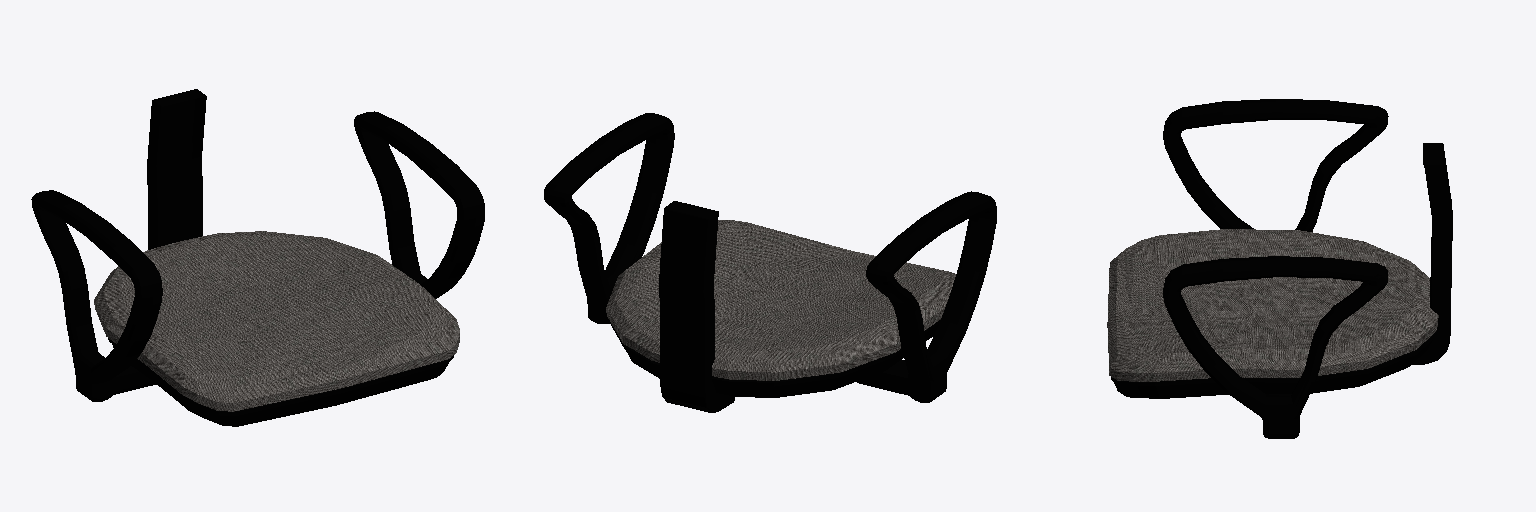
The picture shows the model from 3 angles: view 1: azimuth 30°, elevation 25°; view 2: azimuth 150°, elevation 25°; view 3: azimuth 270°, elevation 25°; orthographic projection.
Parts seen in each view (by area): view 1: Part2; view 2: Part2; view 3: Part2.
Boxes of the visible parts, x1,y1,x2,y2 form: Part2: [31, 89, 484, 426]; Part2: [544, 113, 996, 412]; Part2: [1107, 99, 1452, 438].
Size of the model in its own units: 0.62 by 0.3499 by 0.535.
Materials: 2 (1 with a texture image).